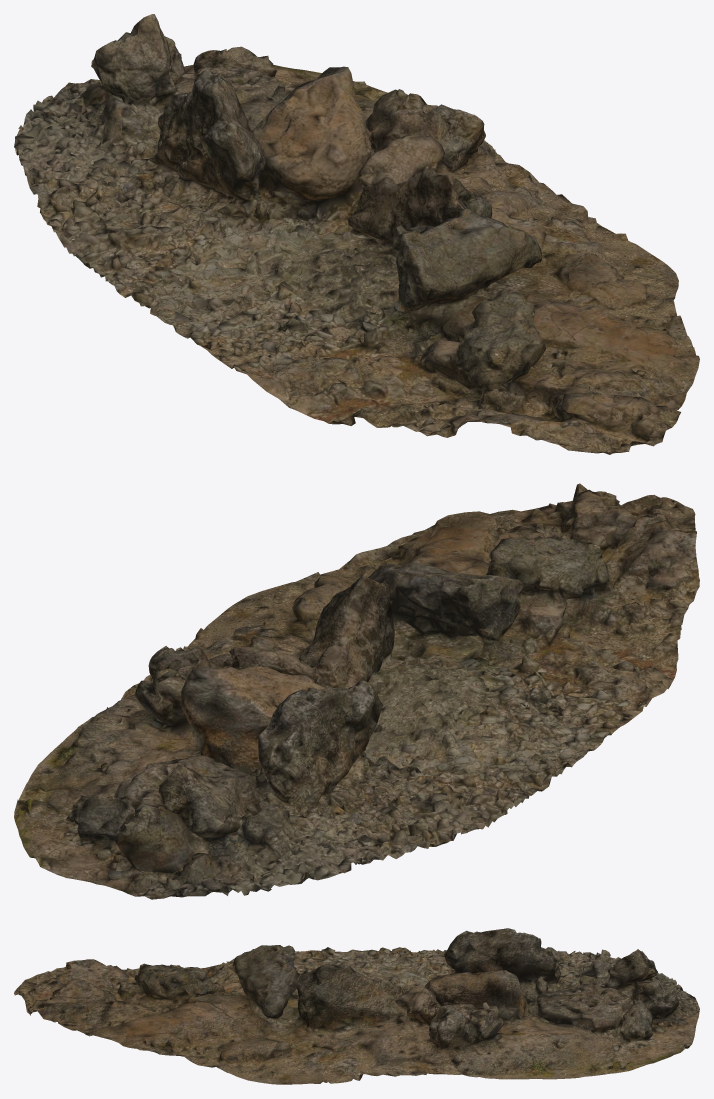
File: coast_land_rocks_02.glb
3 views of the same model, one above another, from view 1: azimuth 30°, elevation 25°; view 2: azimuth 150°, elevation 25°; view 3: azimuth 270°, elevation 25° (orthographic). The views are drawn at different scales.
Parts seen in each view (by area): view 1: coast_land_rocks_02; view 2: coast_land_rocks_02; view 3: coast_land_rocks_02.
Boxes of the visible parts, left/top/right/bottom form: coast_land_rocks_02: left=14, top=14, right=699, bottom=454; coast_land_rocks_02: left=14, top=483, right=699, bottom=899; coast_land_rocks_02: left=14, top=928, right=699, bottom=1084.
Size of the model in its own units: 4.89 by 1.39 by 10.45.
1 material, 1 textured.
